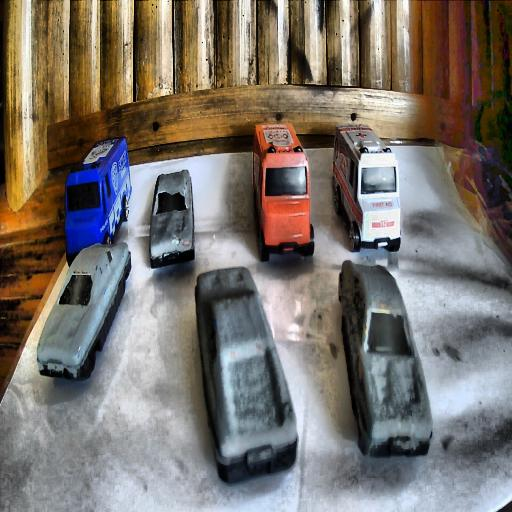ambulance: (332, 122, 402, 254)
fire_truck: (250, 122, 314, 262)
normal_car: (192, 266, 294, 482), (339, 260, 434, 458), (35, 240, 132, 382), (149, 168, 196, 268)
police car: (64, 136, 132, 266)
